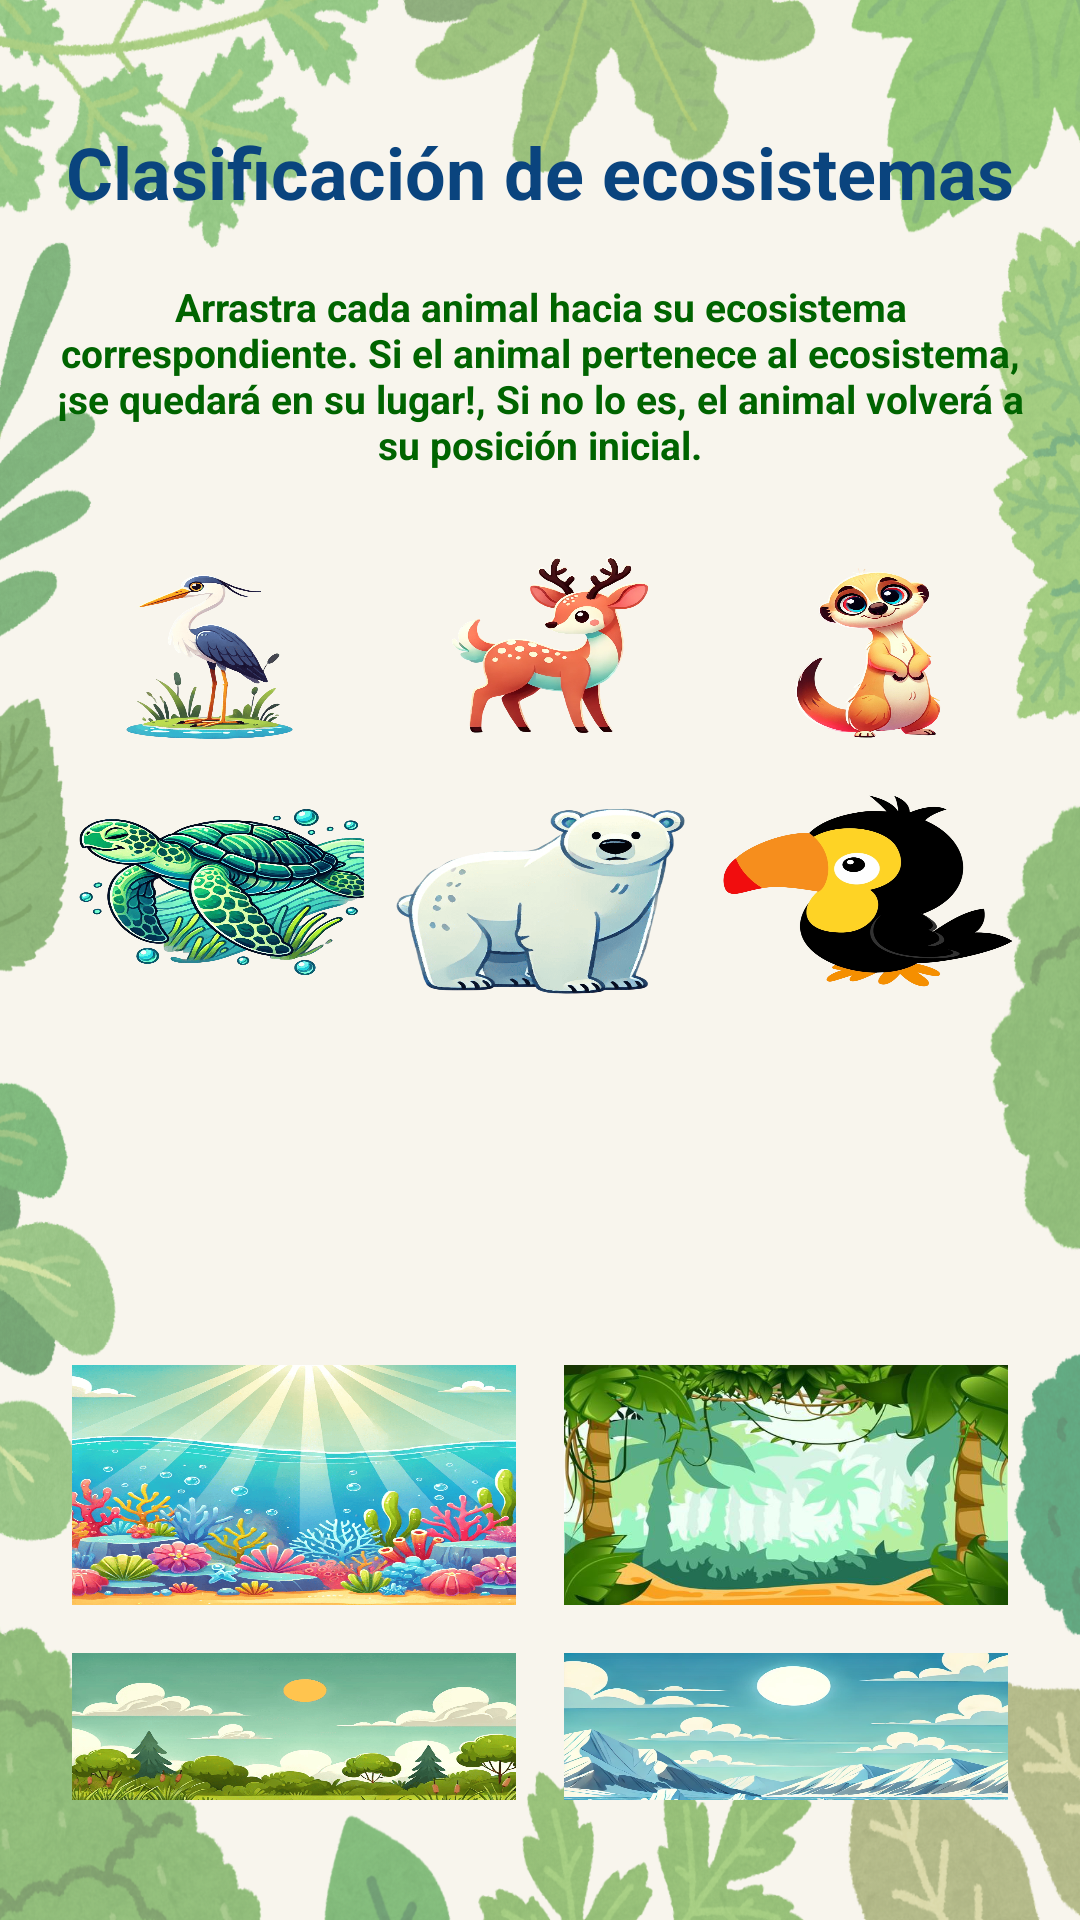

Icons on this 1080px x 1920px Android screen, each with the point to tap as point (x, y):
garzahumedales: point (209, 657)
suricatadesierto: point (868, 653)
tortugaecomarino: point (221, 892)
tucanselva: point (867, 891)
venadobosque: point (552, 645)
